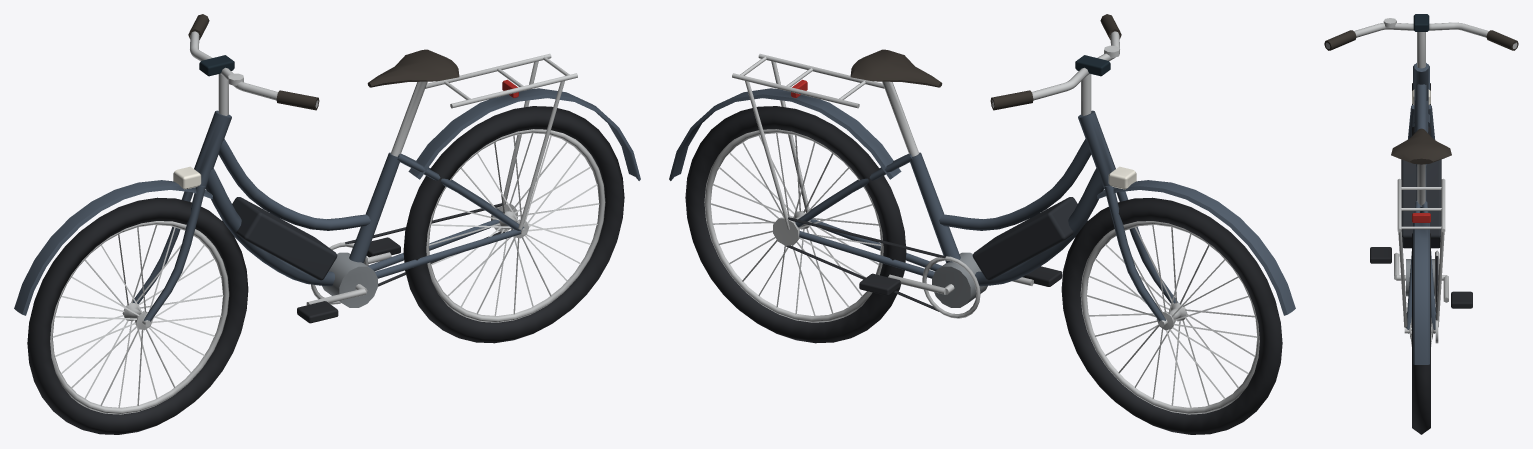
The model's file is eBike.glb.
3 views of the same model, side by side, from view 1: azimuth 30°, elevation 25°; view 2: azimuth 150°, elevation 25°; view 3: azimuth 270°, elevation 25° (orthographic). The views are drawn at different scales.
Parts seen in each view (by area): view 1: frame, wheel_front, wheel_rear, cranks; view 2: frame, wheel_front, wheel_rear, cranks; view 3: frame, wheel_rear, cranks.
Part boxes in pixels (x1,y1,x2,y2): frame: (14, 14, 640, 321); wheel_front: (27, 197, 248, 434); wheel_rear: (403, 106, 624, 343); cranks: (297, 237, 400, 323); frame: (669, 14, 1295, 321); wheel_front: (1061, 197, 1282, 434); wheel_rear: (685, 106, 906, 343); cranks: (859, 256, 1062, 318); frame: (1324, 14, 1518, 364); wheel_rear: (1404, 233, 1435, 434); cranks: (1370, 247, 1472, 308).
Bounding box in the file's own units: 1.88 × 1.02 × 0.6237.
